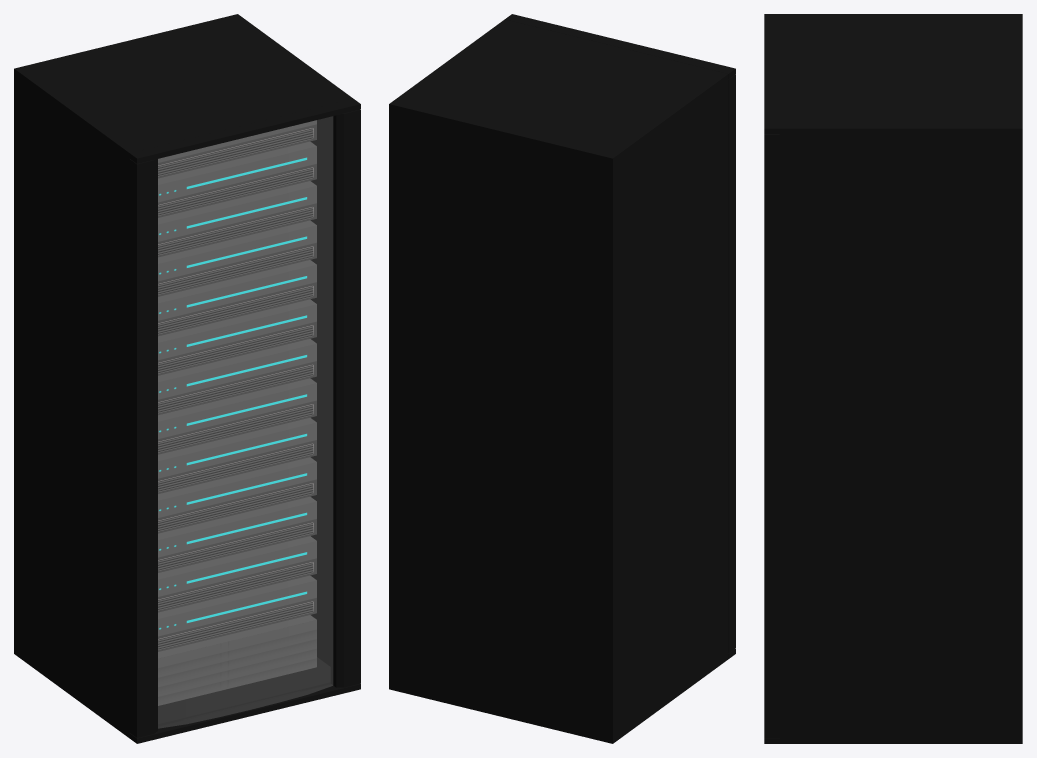
The model's file is server.gltf.
3 renders of one model, left to right at view 1: azimuth 30°, elevation 25°; view 2: azimuth 150°, elevation 25°; view 3: azimuth 270°, elevation 25°, orthographic. The views are drawn at different scales.
Visible parts, largest first — view 1: SERVER; view 2: SERVER; view 3: SERVER.
Part boxes in pixels (<box>): SERVER: <box>14,14,360,743</box>; SERVER: <box>389,14,735,743</box>; SERVER: <box>764,14,1022,743</box>.
Bounding box in the file's own units: 1.2 × 3 × 1.14.
Materials: 3 (1 with a texture image).
